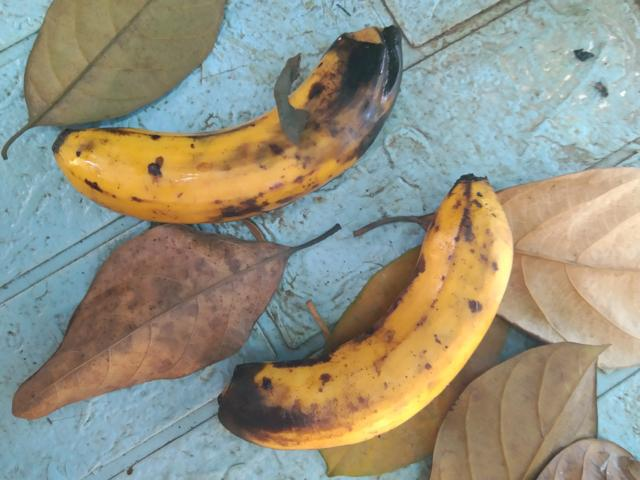overripe: (325, 156, 514, 451), (42, 77, 316, 223)
rotten: (265, 18, 415, 206), (197, 340, 360, 479)
